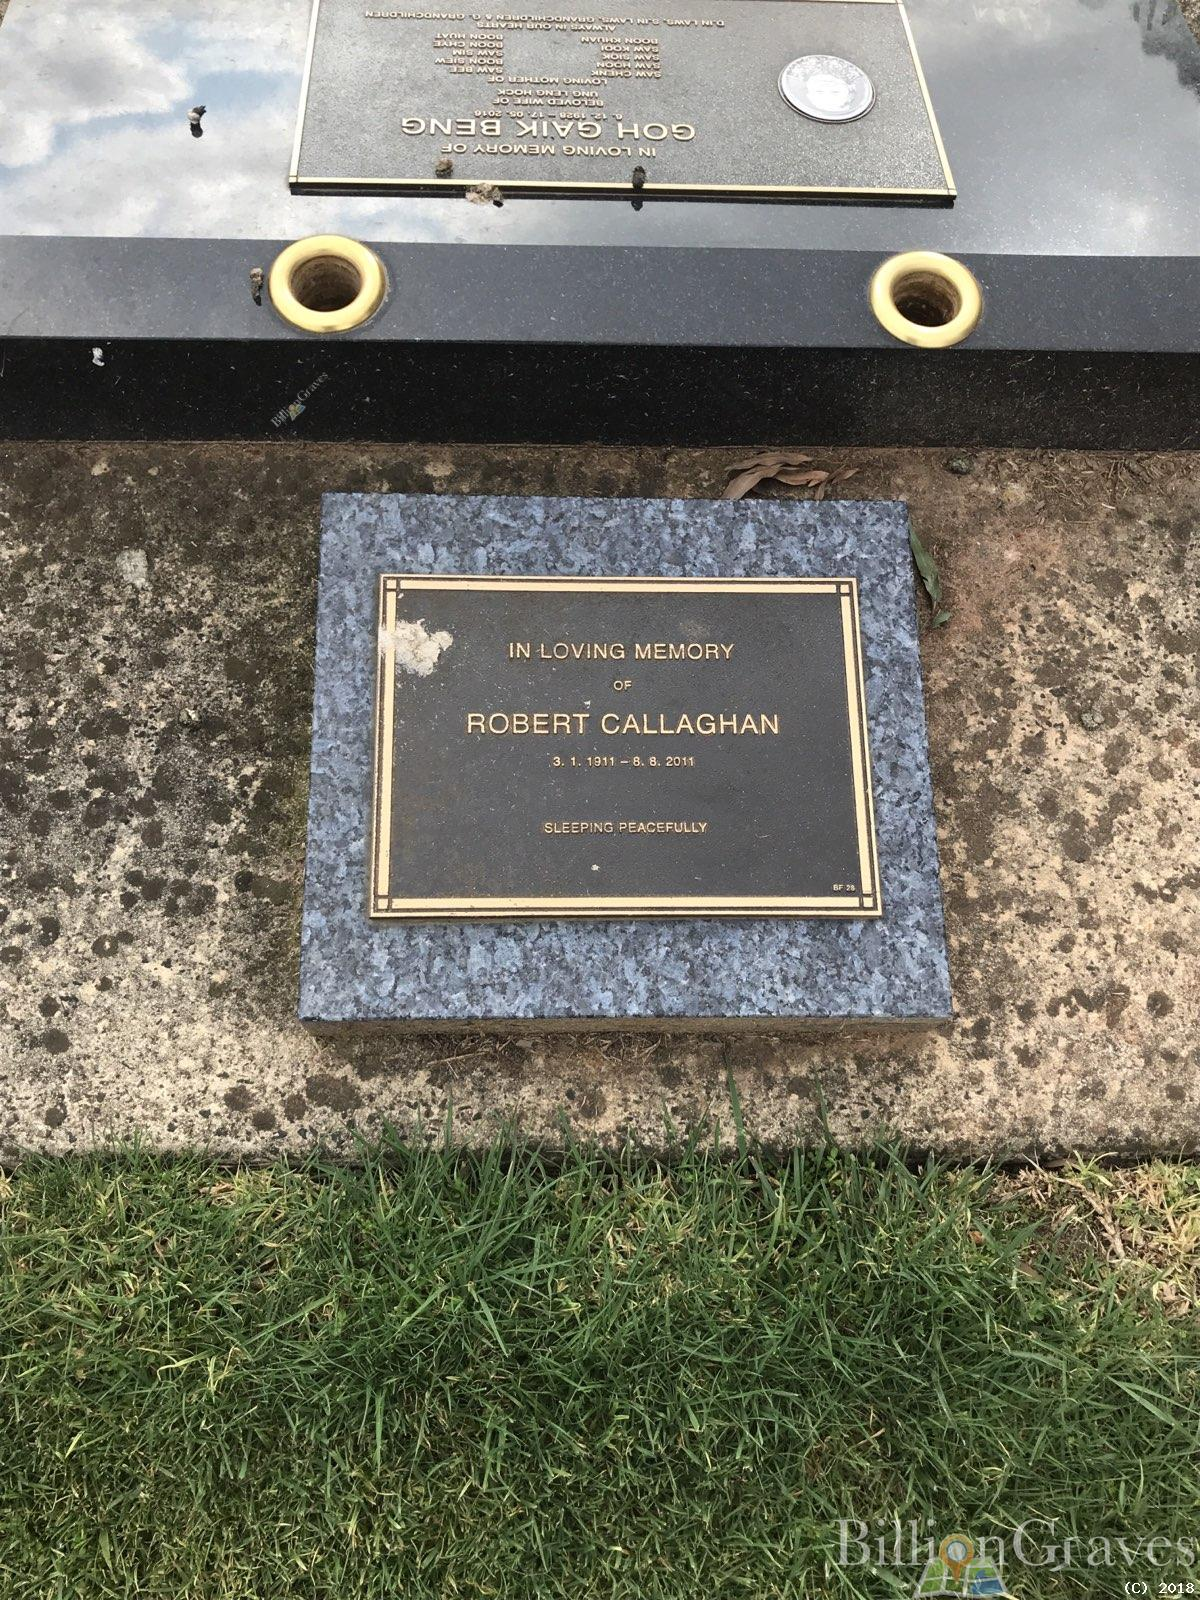flat: (299, 493, 957, 1034)
